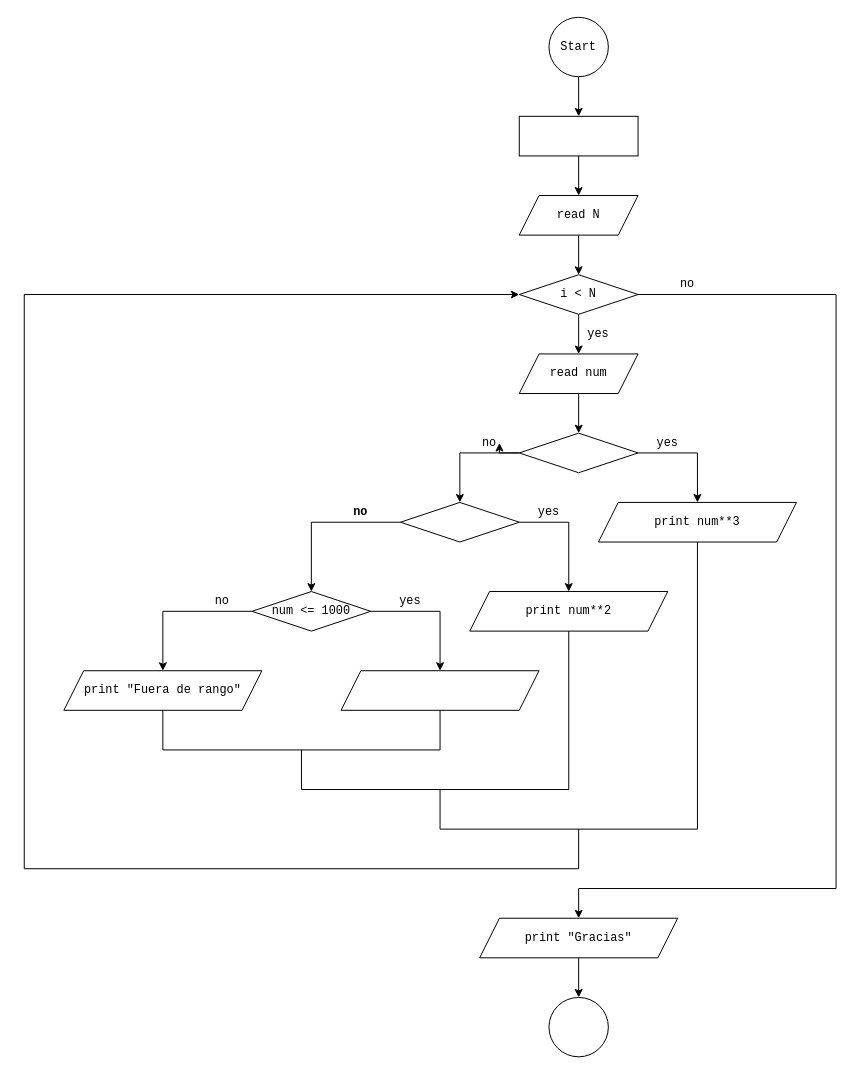
This 861x1074 diagram has some shape labels left out. Here are the shapes that lost their labels. From the top down, the box of each, then its label:
(518, 115, 638, 156): i = 0
(518, 432, 638, 473): num < 0
(399, 501, 519, 542): num <= 100
(340, 670, 539, 710): print (num)**(1/2)
(548, 996, 608, 1057): End
